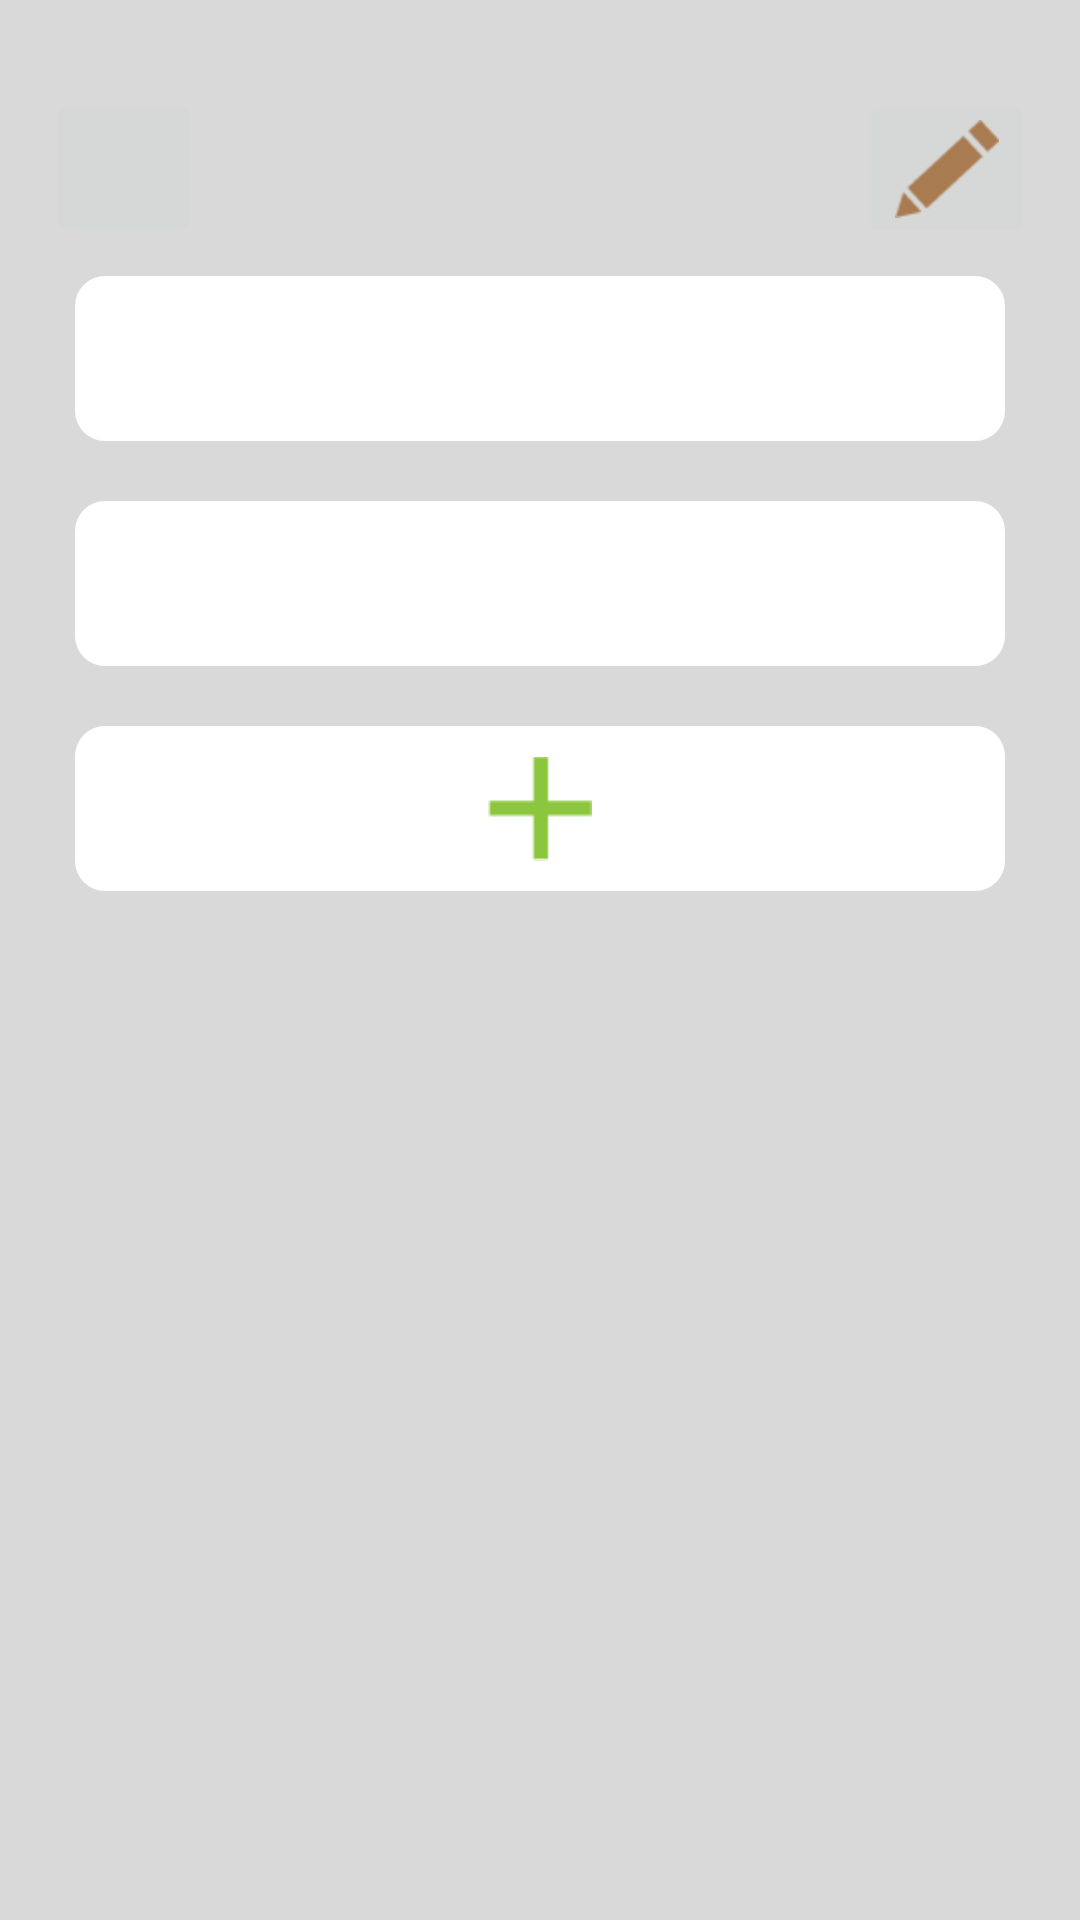

Named icons in this screenshot (1080 x 1920) and their bounding boxes, [x1,y1,x2,y2]:
edit: [895,120,999,218]
